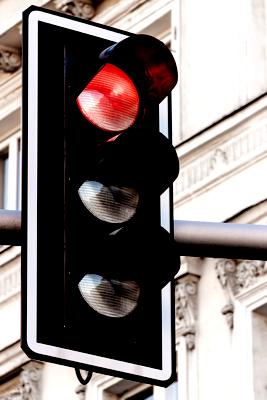International Road Signal Light: (21, 5, 183, 386)
